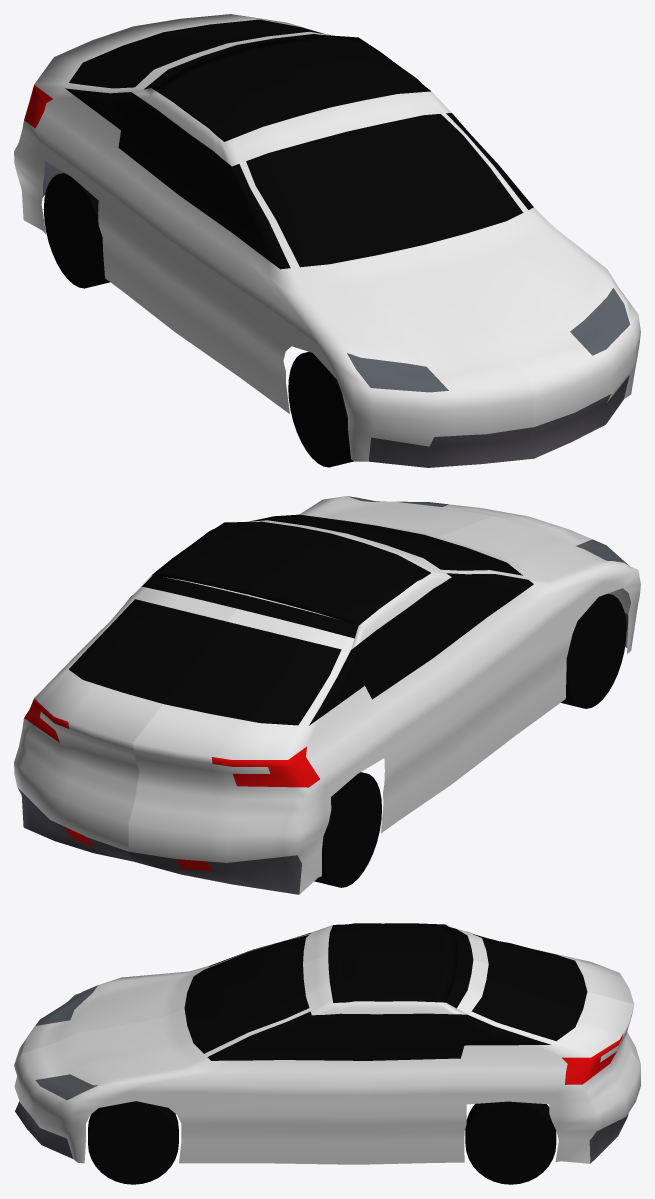
Rendered from tesla_model3_lowpoly.glb.
The picture shows the model from 3 angles, top to bottom: view 1: azimuth 30°, elevation 25°; view 2: azimuth 150°, elevation 25°; view 3: azimuth 270°, elevation 25°; orthographic projection. The views are drawn at different scales.
Visible parts, largest first — view 1: Plane; view 2: Plane; view 3: Plane.
Part boxes in pixels (left/top/right/bottom): Plane: left=14, top=14, right=640, bottom=467; Plane: left=14, top=496, right=640, bottom=894; Plane: left=14, top=923, right=640, bottom=1184.
Bounding box in the file's own units: 3.79 × 2.93 × 9.29.
